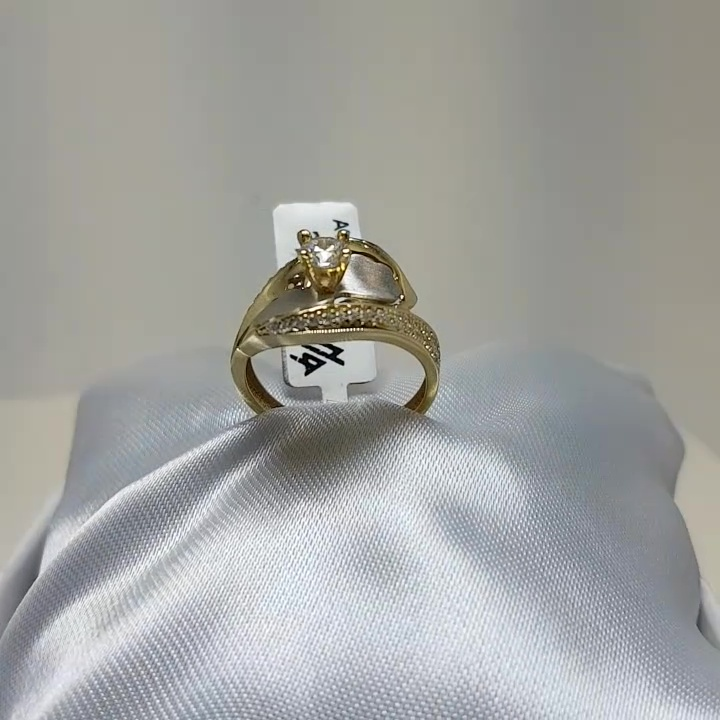Ring 6: (202, 224, 461, 474)
